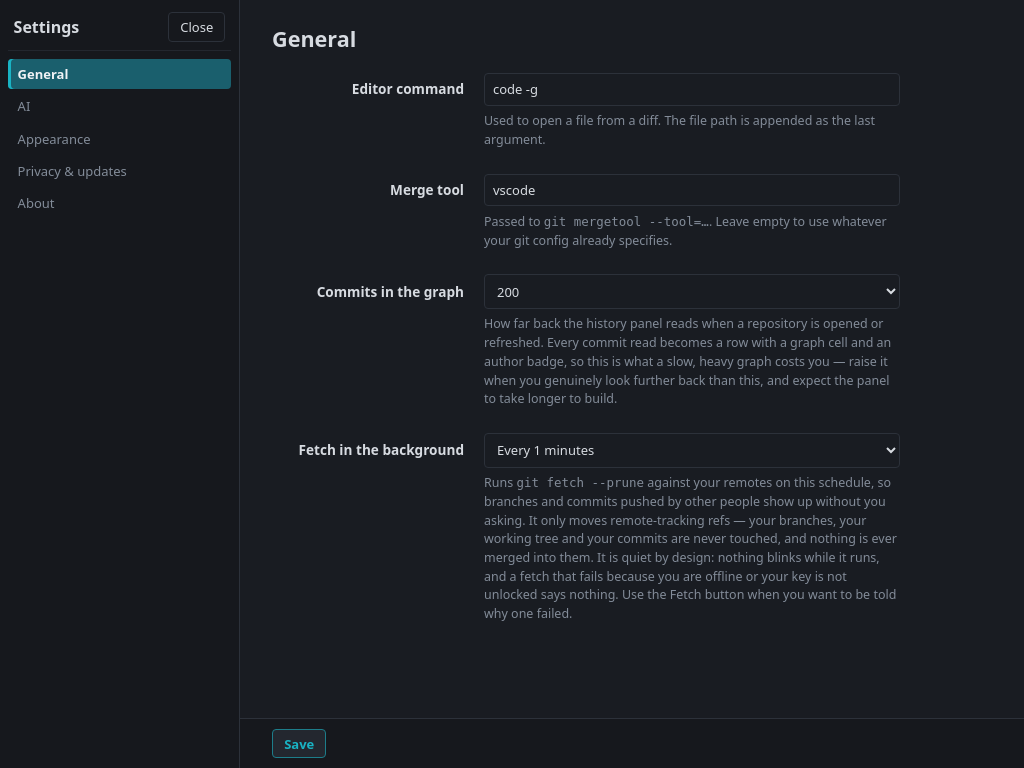
it: SettingsView › shows the current settings
This screenshot has width=1024, height=768.
Expected: the field labelled "Editor command" holds "code -g", top-left (484, 73), bottom-right (900, 106)
Expected: the field labelled "Merge tool" holds "vscode", top-left (484, 174), bottom-right (900, 206)
Click the button "Appearance": click(120, 139) top-left (8, 123), bottom-right (231, 154)
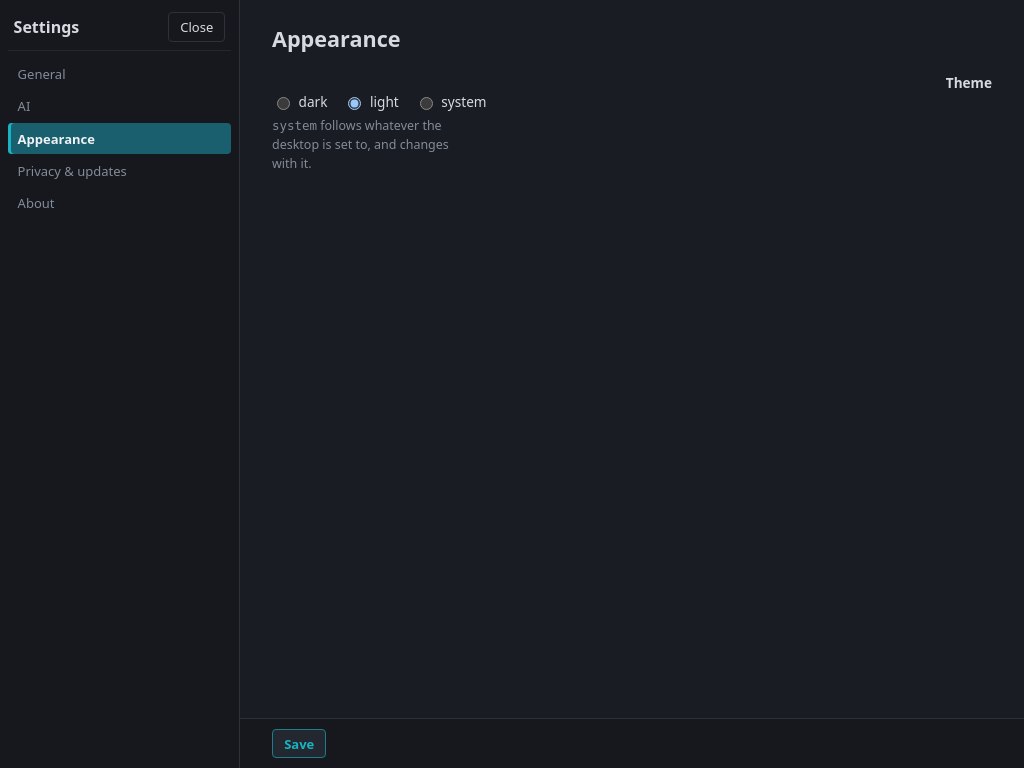
Result: the radio button labelled "light" is checked at top-left (348, 96), bottom-right (362, 110)
